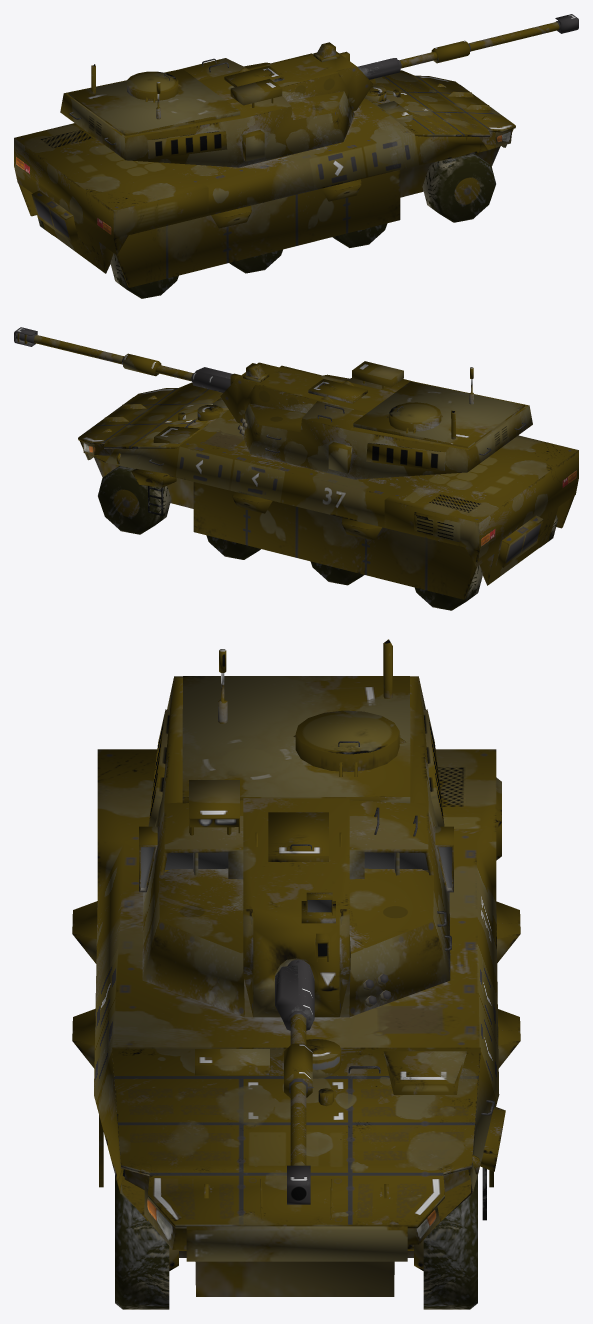
The model's file is fictional_lowpoly_pbr_tank_lowpole.glb.
The picture shows the model from 3 angles, top to bottom: view 1: azimuth 30°, elevation 25°; view 2: azimuth 150°, elevation 25°; view 3: azimuth 270°, elevation 25°; orthographic projection. The views are drawn at different scales.
Visible parts, largest first — view 1: bot_low, tower, wheel_low; view 2: bot_low, tower, wheel_low; view 3: bot_low, tower, wheel_low.
Part boxes in pixels (x1=…): bot_low: x1=14, y1=70, x2=515, y2=287; tower: x1=60, y1=14, x2=578, y2=167; wheel_low: x1=38, y1=153, x2=495, y2=298; bot_low: x1=78, y1=382, x2=578, y2=599; tower: x1=14, y1=327, x2=532, y2=479; wheel_low: x1=98, y1=466, x2=557, y2=610; bot_low: x1=72, y1=749, x2=520, y2=1296; tower: x1=139, y1=639, x2=453, y2=1204; wheel_low: x1=115, y1=1175, x2=477, y2=1309.
Bounding box in the file's own units: 12.98 × 4.52 × 4.86.
Materials: 1 (1 with a texture image).
